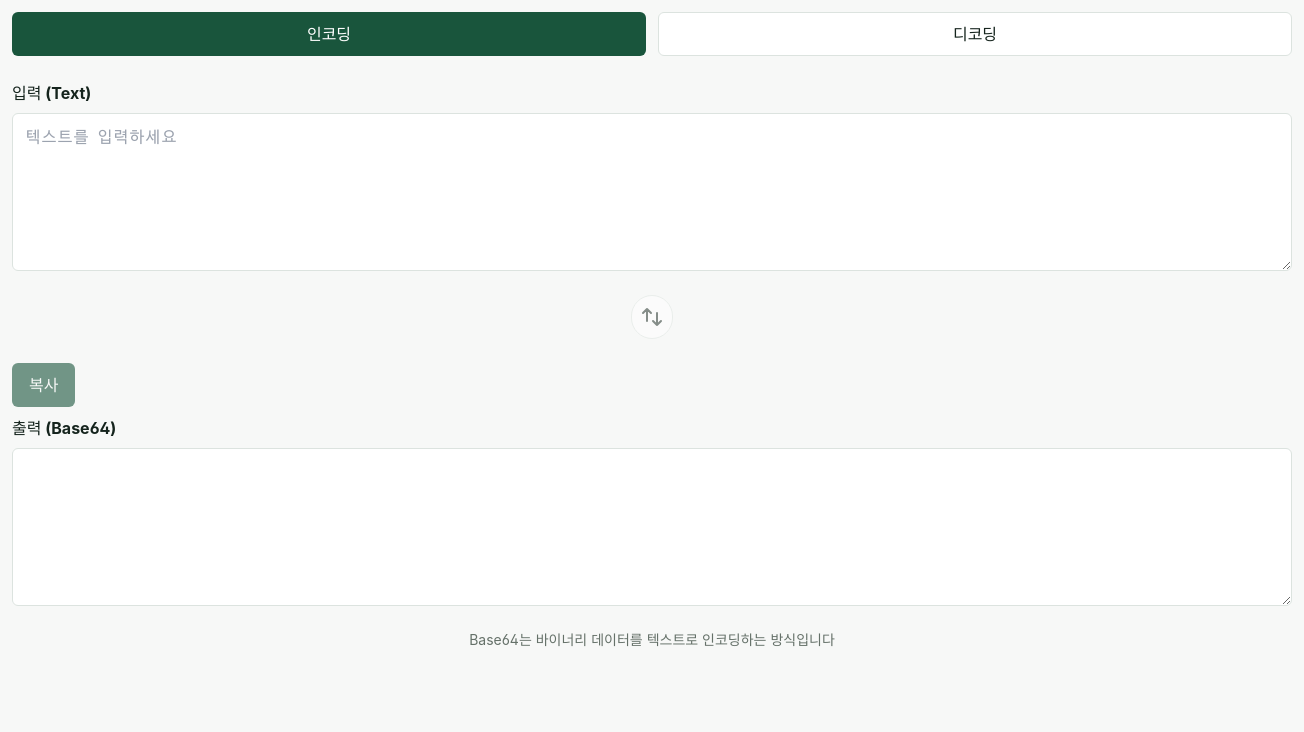
Test: Base64Tool › decodes Base64 to text correctly
The width and height of the screenshot is (1304, 732).
# Switch to decode mode
Click the button "디코딩".
click(975, 34)  # box [658,12,1292,56]
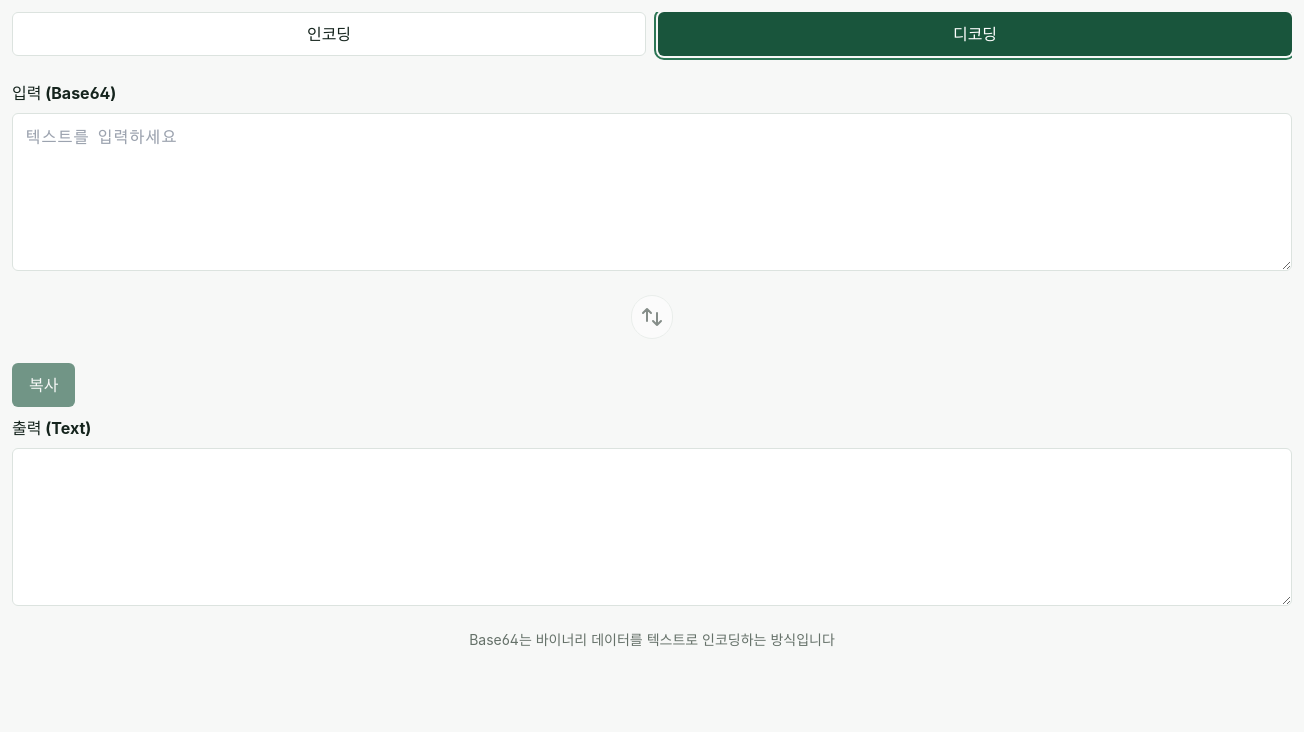
Type "SGVsbG8gV29ybGQ=" into the text box with placeholder "텍스트를 입력하세요".
click(652, 192); type("SGVsbG8gV29ybGQ=")  # box [12,113,1292,271]
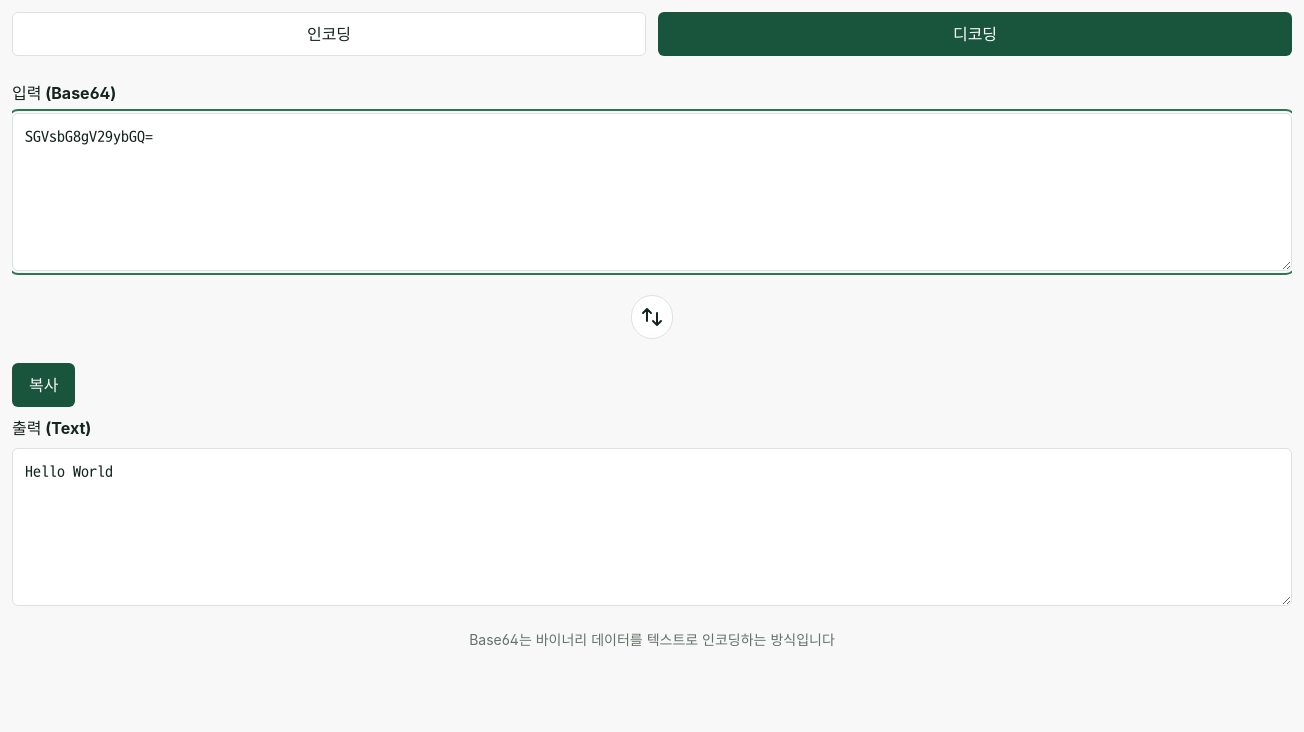
Expected: the text box labelled "출력 (Text)" holds "Hello World", [12,448,1292,606]
